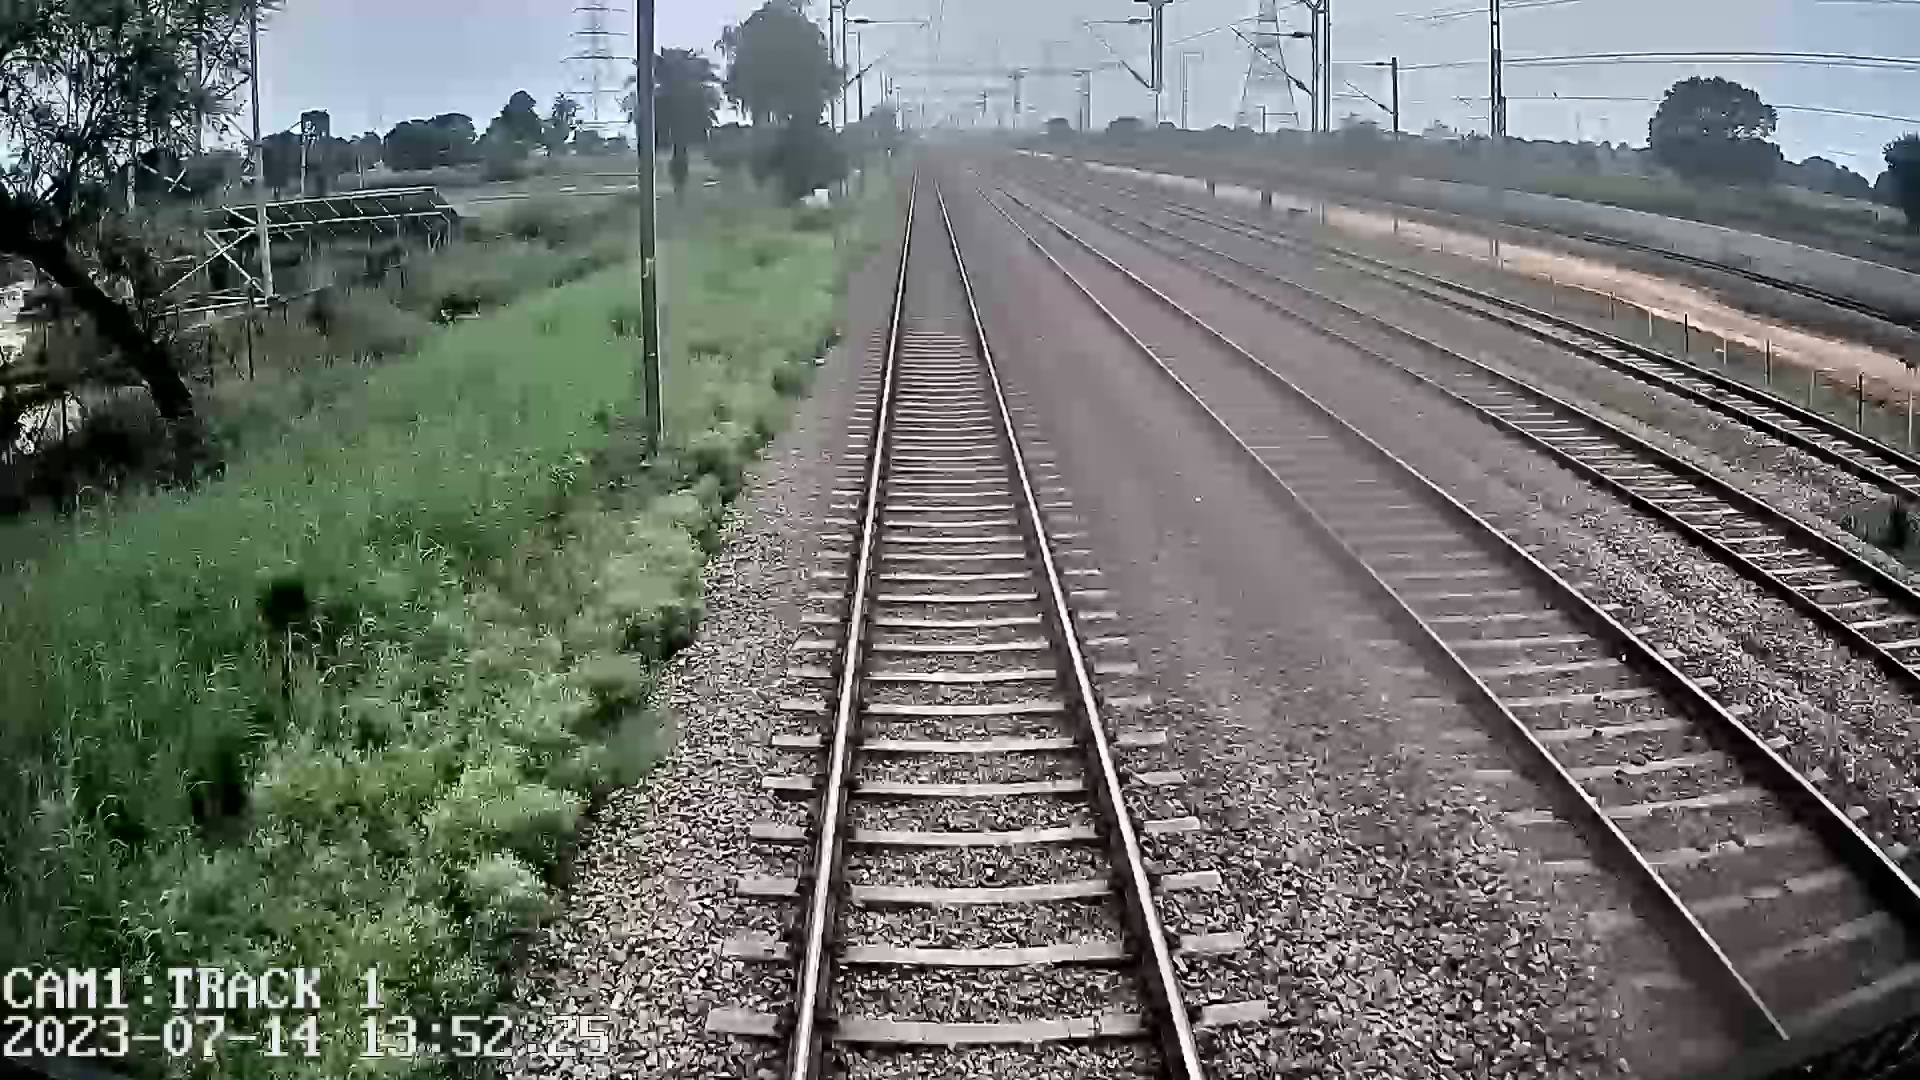track1: (799, 181, 1193, 1063)
track2: (976, 177, 1919, 1021)
track3: (1113, 220, 1919, 673)
track4: (1340, 257, 1919, 488)
